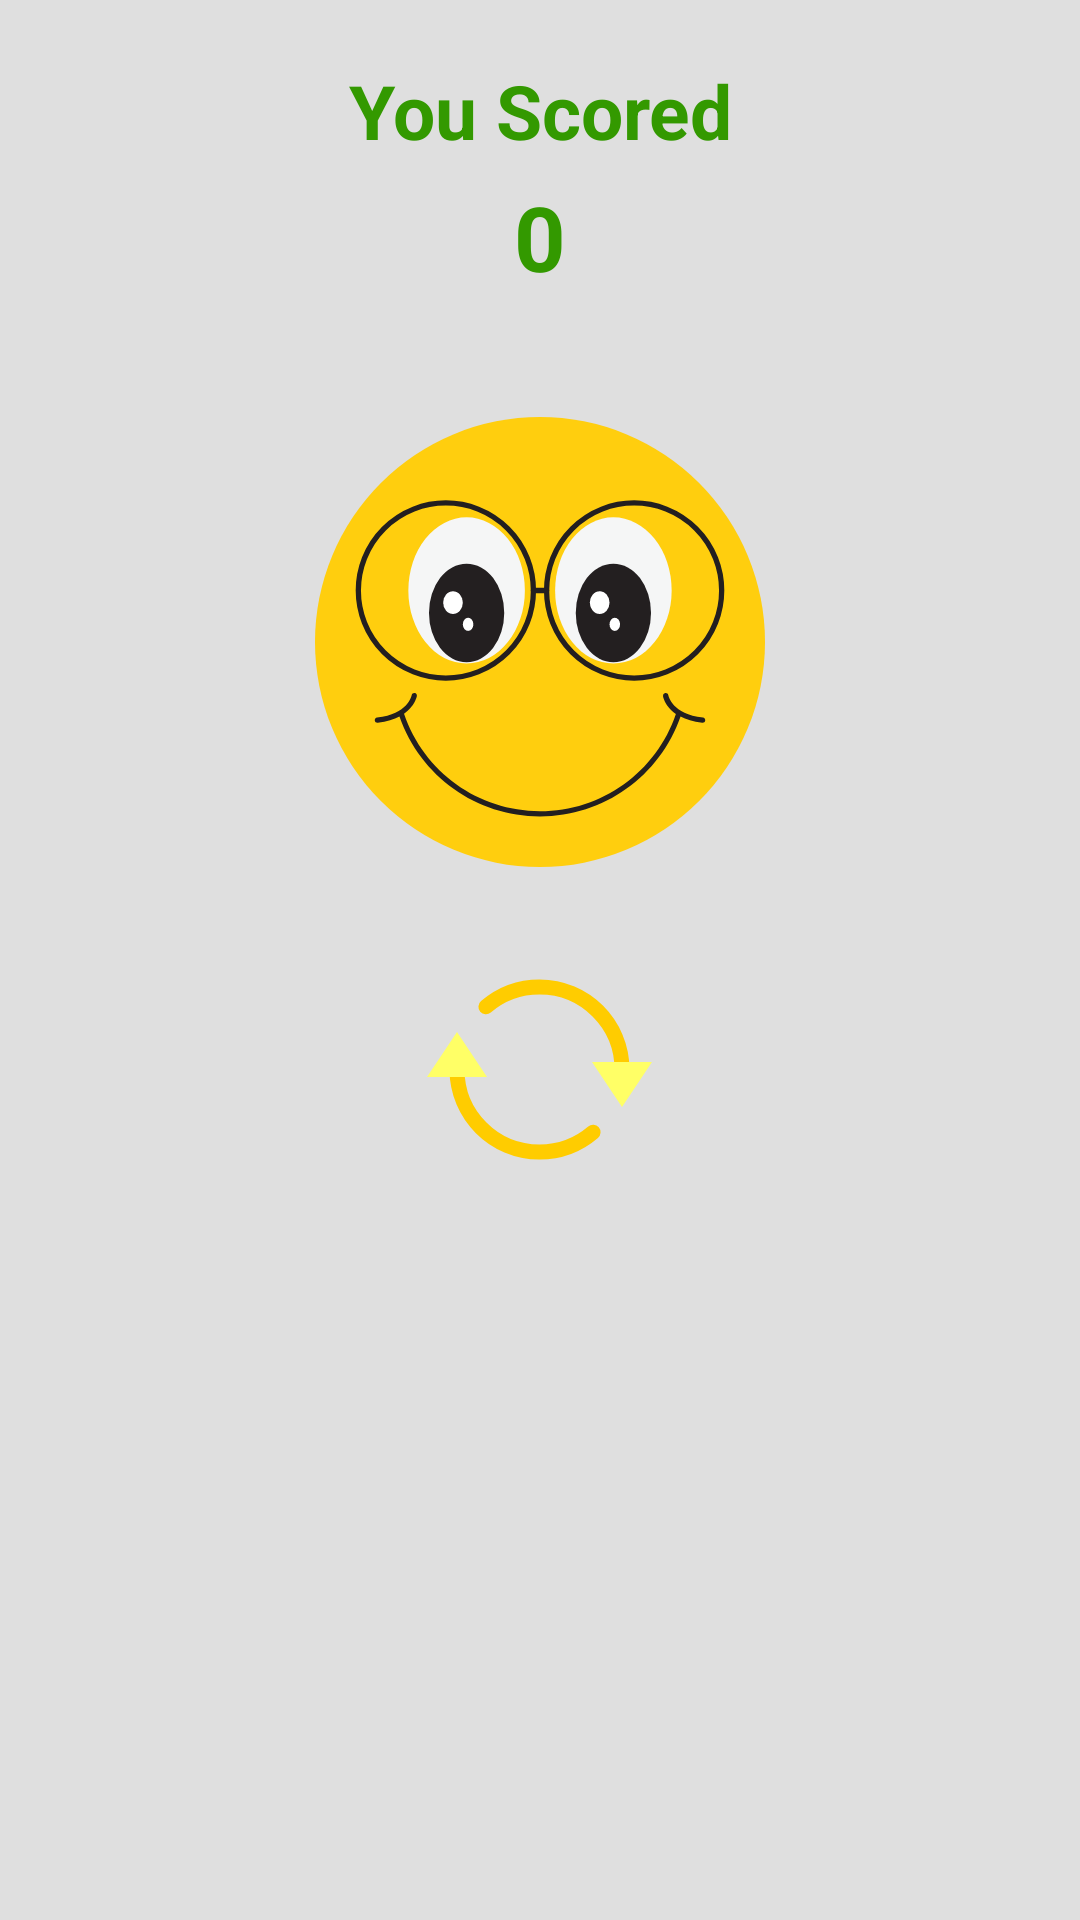

Icon click points for this 1080×1920 phone screenshot, format point (x, y):
refresh: point (539, 1069)
